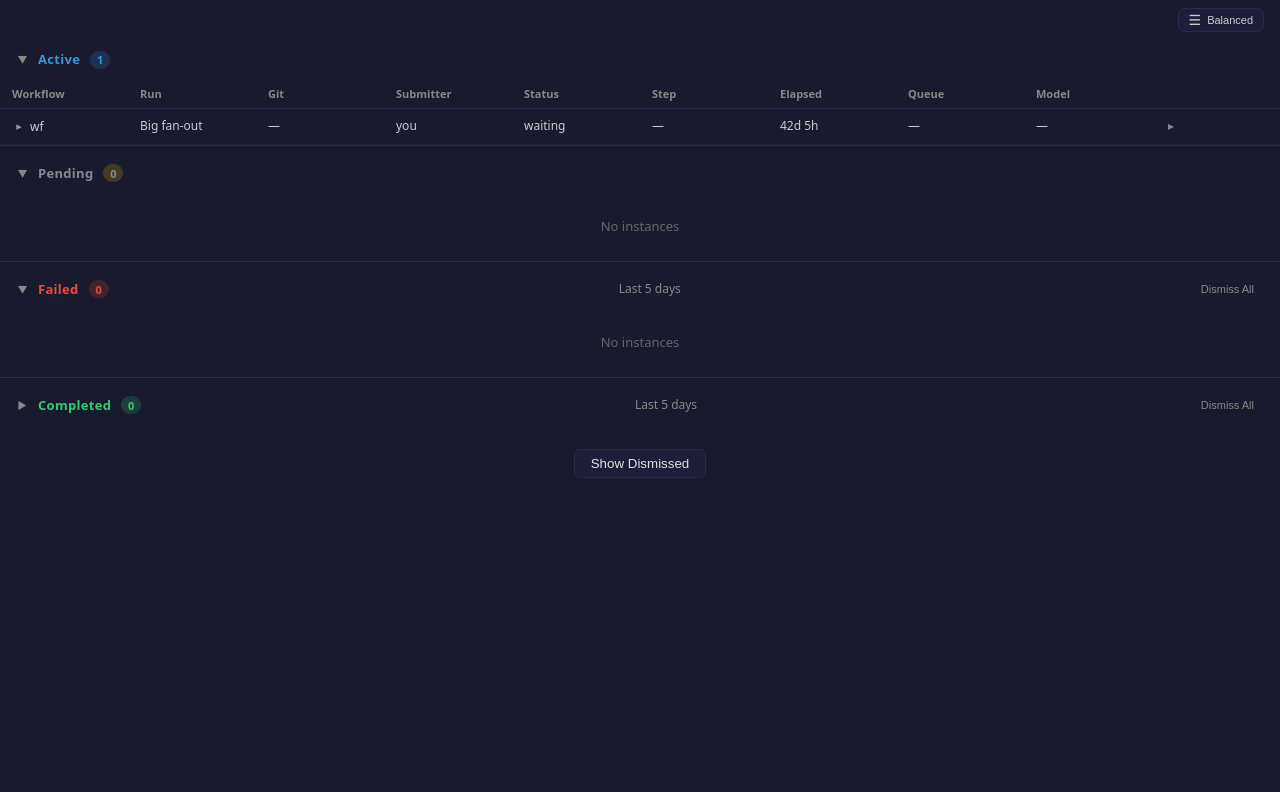
Scenario: QueueView hierarchy — every fixed task is inspectable beyond the 100-row page (P4-T10) › the 101st fixed task is reachable through load-more
Click the button "▸" next to "wf" at {"x": 19, "y": 126}, box [12, 121, 26, 132]
(page scrolled)
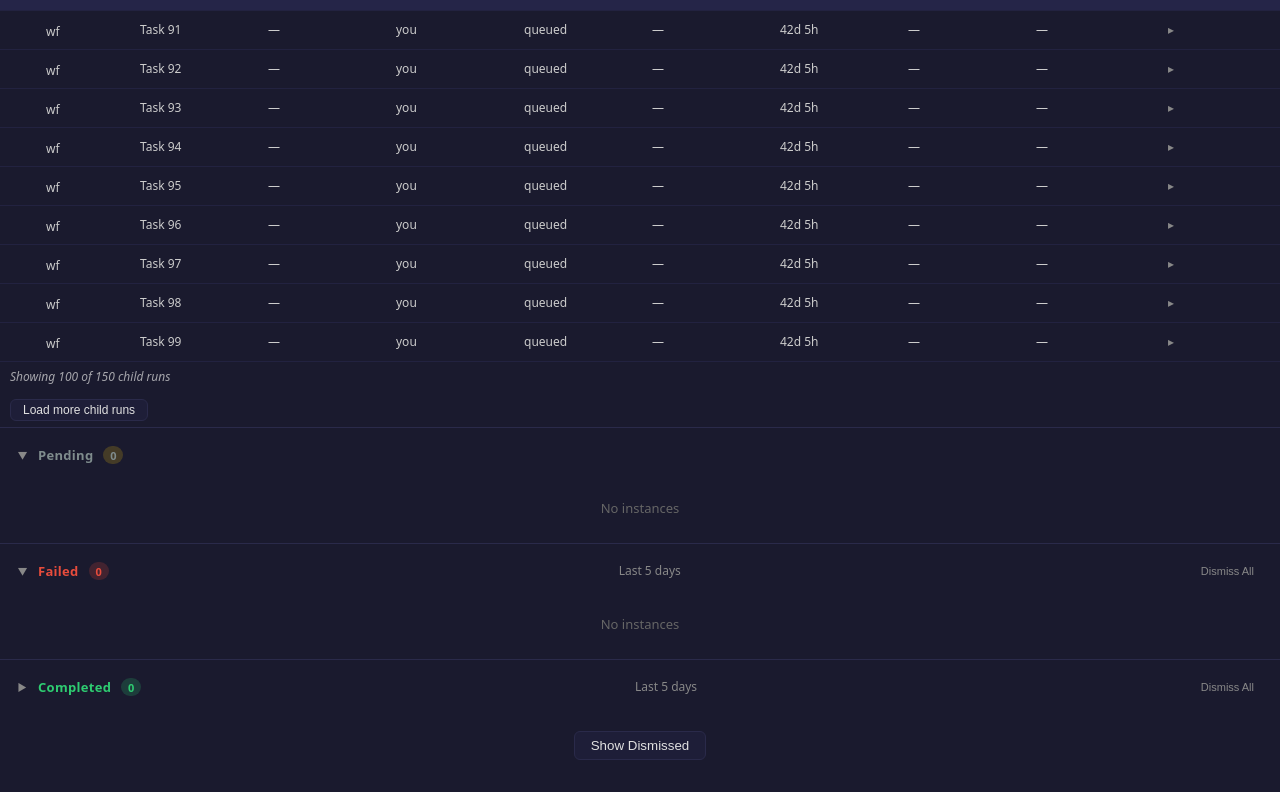
Result: the text "Showing 100 of 150 child runs" is shown at [0, 361, 1279, 392]
Click the button "Load more child runs" at {"x": 79, "y": 410}, box [10, 398, 148, 420]
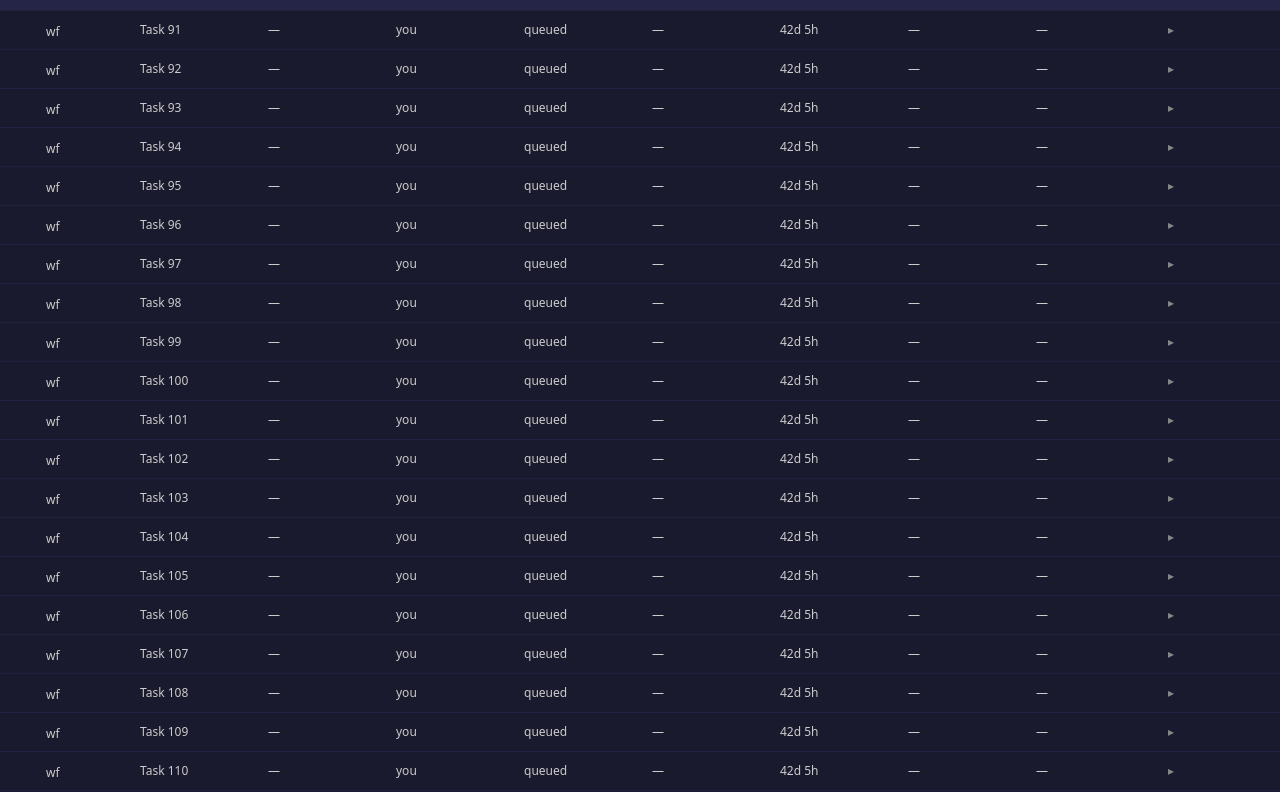
Result: the button "Load more child runs" is gone
Result: the text "Showing 100 of 150 child runs" is gone
